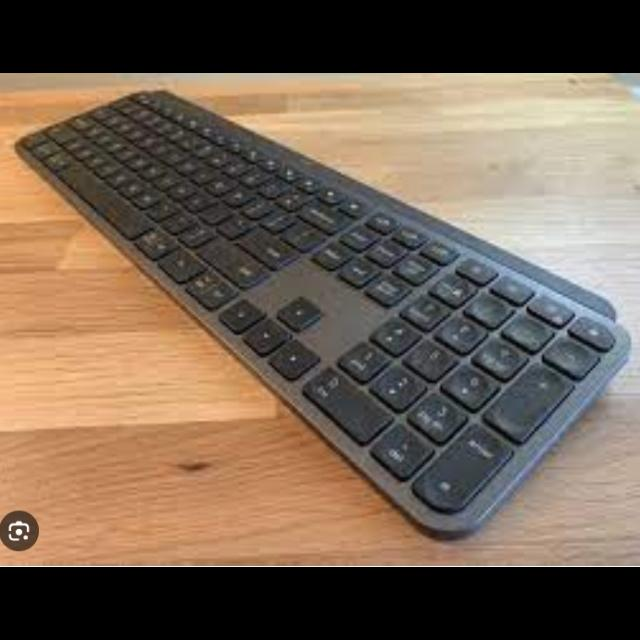Computer-Keyboard: (15, 90, 631, 543)
